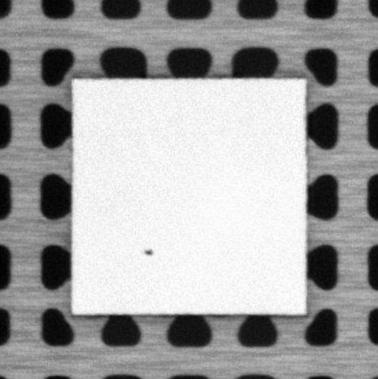DIE_INK: (142, 246, 154, 257)
